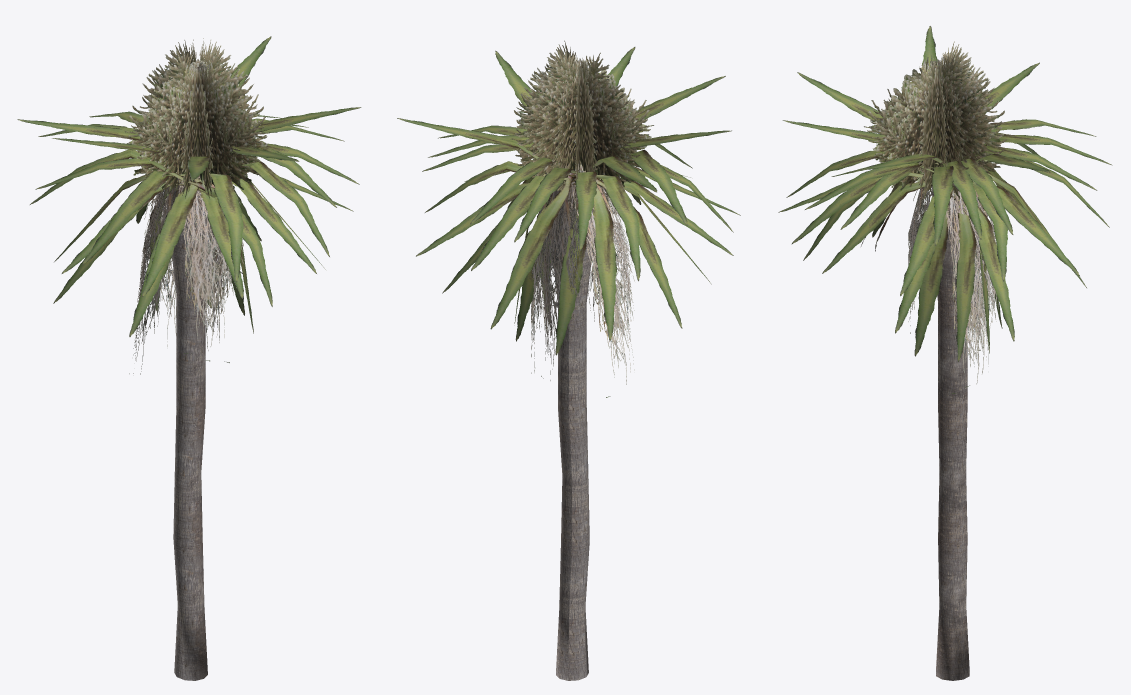
The model's file is palm6.dae.
3 renders of one model, left to right at view 1: azimuth 30°, elevation 25°; view 2: azimuth 150°, elevation 25°; view 3: azimuth 270°, elevation 25°, orthographic.
Visible parts, largest first — view 1: meshU3D; view 2: meshU3D; view 3: meshU3D.
Part boxes in pixels (left/top/right/bottom): meshU3D: left=17, top=36, right=361, bottom=680; meshU3D: left=397, top=40, right=740, bottom=680; meshU3D: left=778, top=26, right=1112, bottom=680.
Size of the model in its own units: 88.8 by 178 by 88.05.
